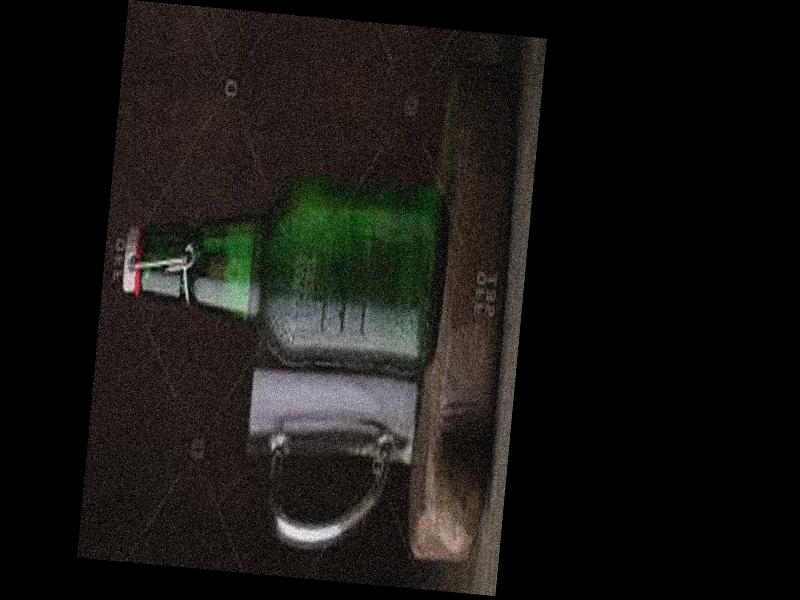Beer: (117, 166, 451, 372)
